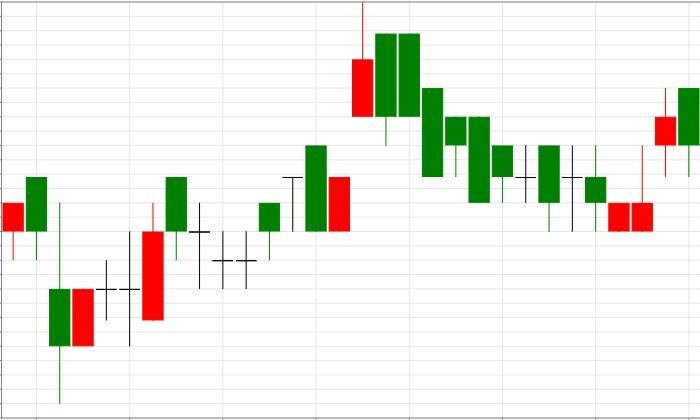bearish_engulfing_fall: (608, 87, 700, 232)
inverse_hammer_rise: (375, 33, 654, 233)
